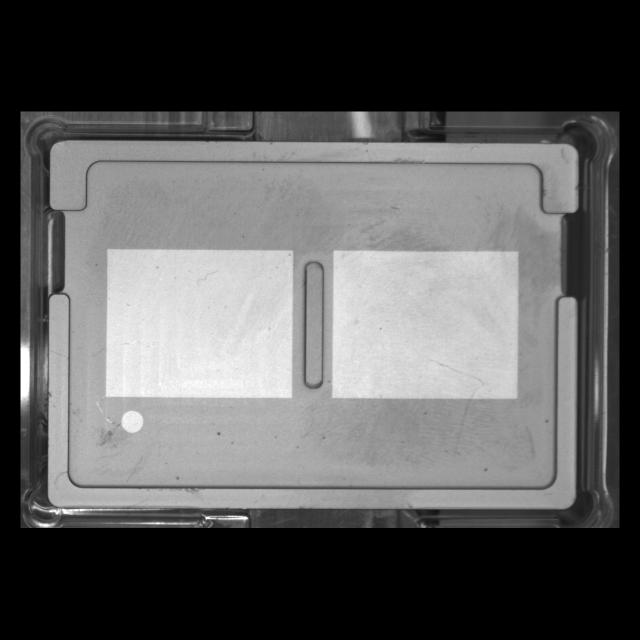door: (38, 128, 592, 231)
point: (111, 401, 154, 444)
